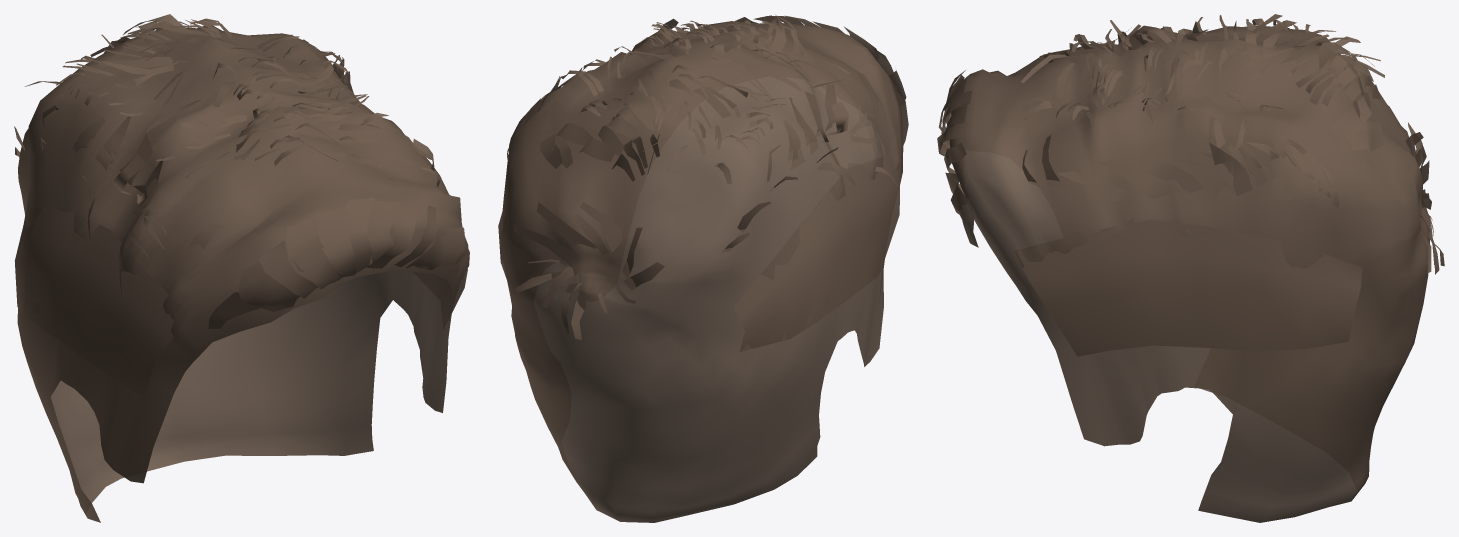
Rendered from short01.glb.
3 views of the same model, side by side, from view 1: azimuth 30°, elevation 25°; view 2: azimuth 150°, elevation 25°; view 3: azimuth 270°, elevation 25° (orthographic). The views are drawn at different scales.
Visible parts, largest first — view 1: short01; view 2: short01; view 3: short01.
Part boxes in pixels (<box>): short01: <box>14,14,469,522</box>; short01: <box>498,15,908,522</box>; short01: <box>937,14,1444,522</box>.
Size of the model in its own units: 0.1519 by 0.2006 by 0.2038.
